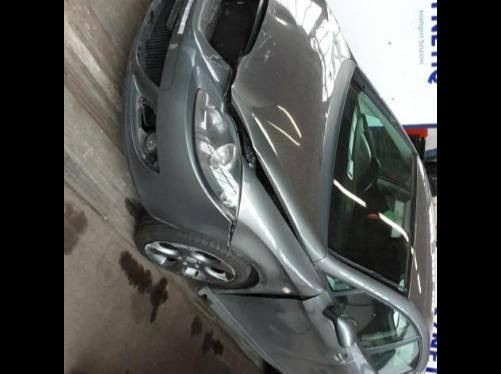Broken part: (220, 0, 312, 266), (216, 286, 326, 302), (196, 282, 218, 308), (226, 218, 240, 246)
Dent: (212, 218, 300, 296), (230, 24, 280, 108), (274, 6, 294, 27)
Flaking: (200, 53, 232, 70), (168, 42, 178, 48)
Missing part: (138, 0, 187, 84), (210, 0, 259, 66), (130, 74, 160, 174), (176, 0, 195, 32)
Scratch: (244, 53, 254, 68), (260, 34, 272, 46), (264, 48, 272, 62), (272, 40, 276, 46), (264, 32, 266, 34)
